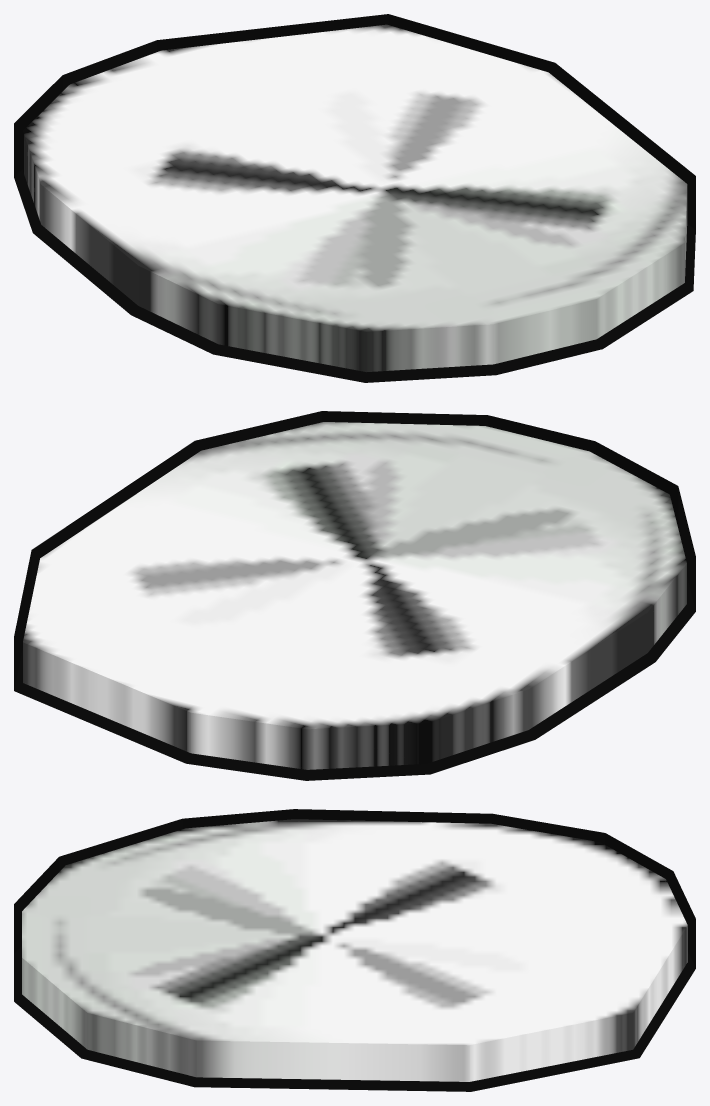
File: Item_Apparel_Broadwrap_Things_Pawn_Humanlike_Apparel_Broadwrap_Broadwrap.glb
3 views of the same model, one above another, from view 1: azimuth 30°, elevation 25°; view 2: azimuth 150°, elevation 25°; view 3: azimuth 270°, elevation 25° (orthographic). The views are drawn at different scales.
Parts seen in each view (by area): view 1: Body, Outline; view 2: Body, Outline; view 3: Body, Outline.
Boxes of the visible parts, left/top/right/bottom form: Body: left=23, top=24, right=687, bottom=372; Outline: left=14, top=14, right=695, bottom=382; Body: left=23, top=422, right=686, bottom=769; Outline: left=14, top=411, right=695, bottom=780; Body: left=22, top=819, right=687, bottom=1081; Outline: left=14, top=809, right=695, bottom=1091.
Size of the model in its own units: 0.3943 by 0.0397 by 0.4882.
2 materials, 1 textured.
